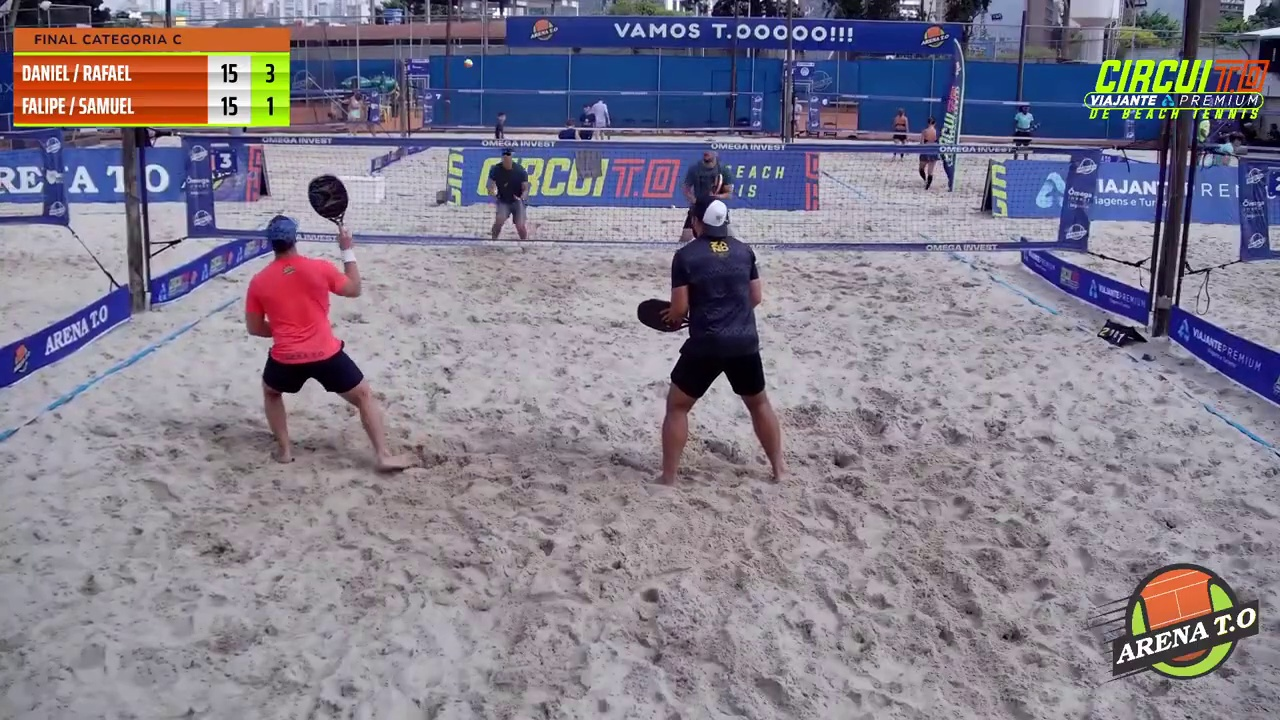court_line: (456, 0, 579, 392)
